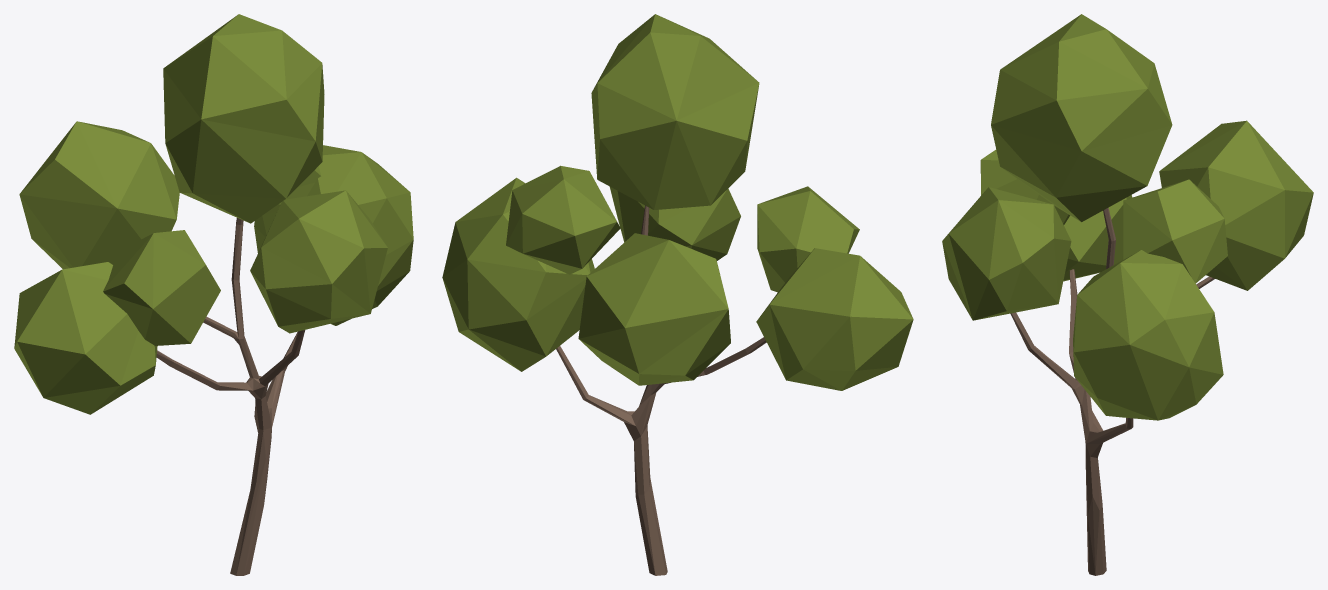
File: oak.fbx
3 renders of one model, left to right at view 1: azimuth 30°, elevation 25°; view 2: azimuth 150°, elevation 25°; view 3: azimuth 270°, elevation 25°, orthographic. The views are drawn at different scales.
Parts seen in each view (by area): view 1: oak; view 2: oak; view 3: oak.
Part boxes in pixels (x1=…): oak: x1=14, y1=14, x2=413, y2=575; oak: x1=442, y1=14, x2=913, y2=575; oak: x1=942, y1=14, x2=1313, y2=575.
Bounding box in the file's own units: 807 × 995 × 616.
